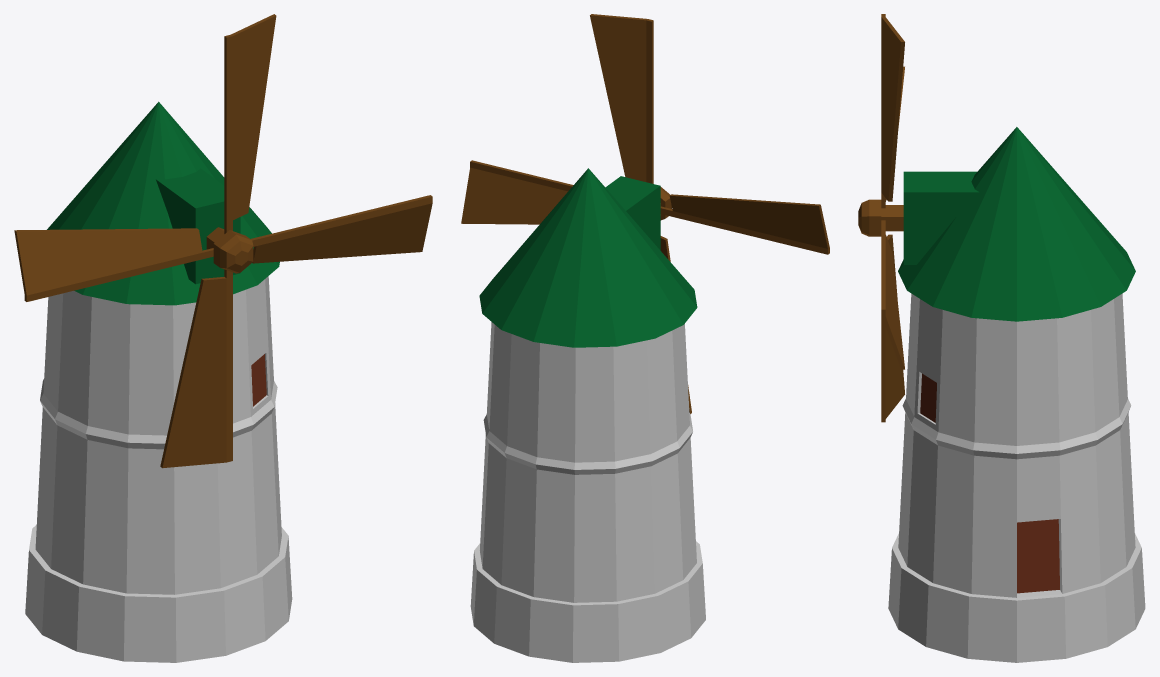
The model's file is Windmill.fbx.
3 views of the same model, side by side, from view 1: azimuth 30°, elevation 25°; view 2: azimuth 150°, elevation 25°; view 3: azimuth 270°, elevation 25° (orthographic). The views are drawn at different scales.
Parts seen in each view (by area): view 1: Cylinder, Cylinder.001; view 2: Cylinder, Cylinder.001; view 3: Cylinder, Cylinder.001.
Part boxes in pixels (<box>): Cylinder: <box>25,101,292,662</box>; Cylinder.001: <box>14,14,432,468</box>; Cylinder: <box>470,168,705,662</box>; Cylinder.001: <box>461,14,829,413</box>; Cylinder: <box>888,127,1145,662</box>; Cylinder.001: <box>858,14,904,422</box>.
Size of the model in its own units: 358 by 524 by 230.
